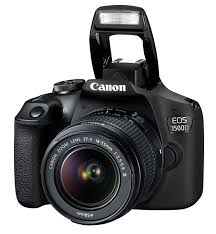camera: (16, 5, 203, 223)
